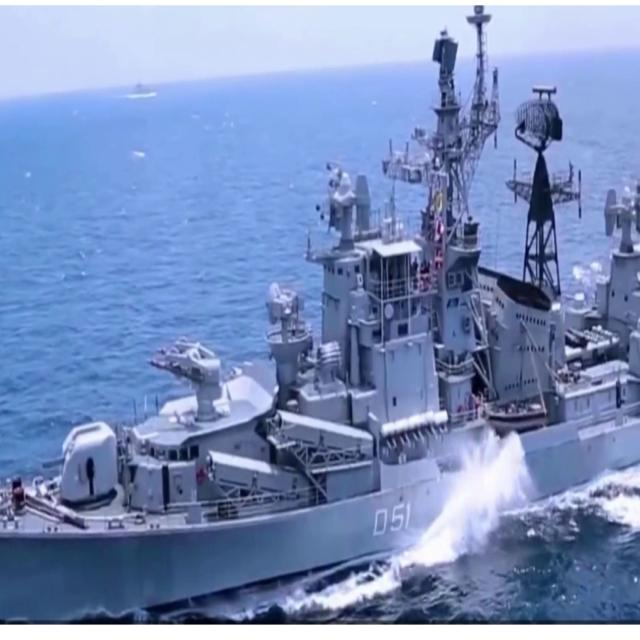OCR: (365, 493, 412, 543)
